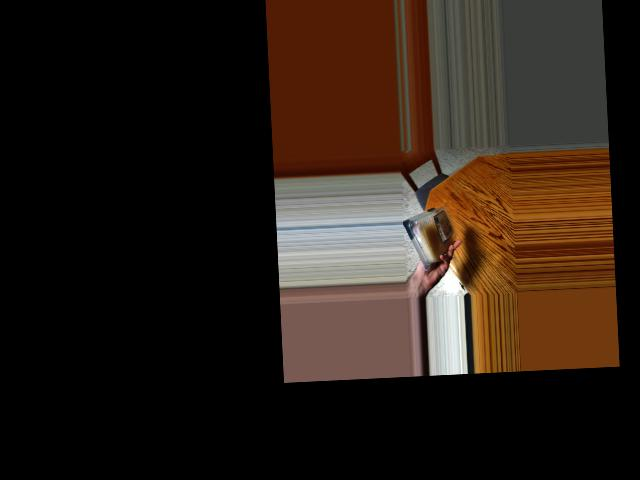cheese: (406, 206, 456, 264)
